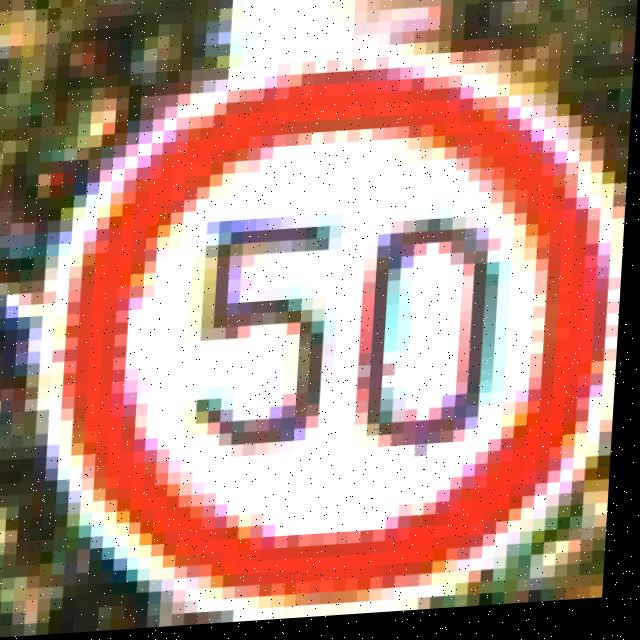speed_limit_50: (80, 103, 626, 623)
